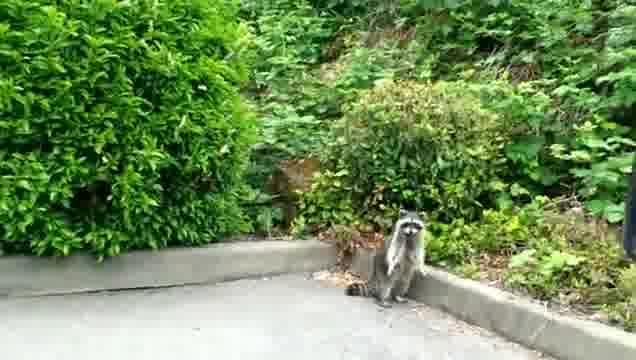raccoon: (346, 210, 429, 307)
